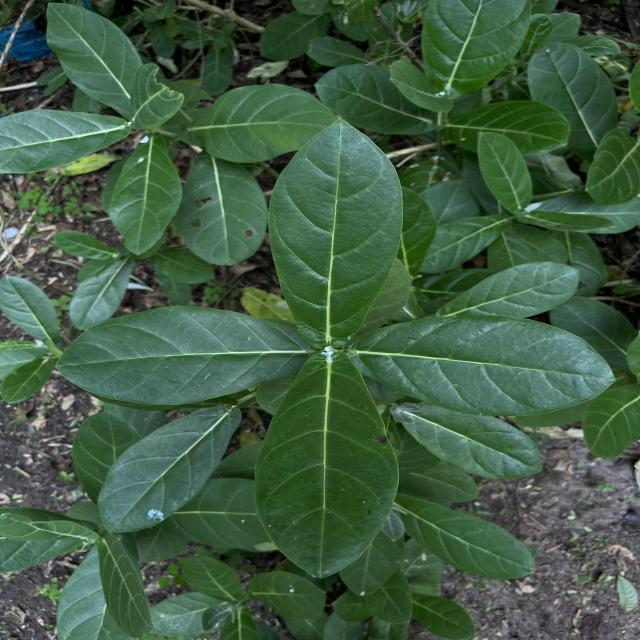Calotropis gigantea: (253, 351, 402, 580), (266, 116, 406, 340), (341, 314, 618, 418), (52, 302, 309, 408), (95, 401, 246, 536), (392, 494, 538, 580), (188, 82, 336, 164), (394, 402, 544, 481), (44, 0, 144, 116), (526, 40, 618, 160), (181, 153, 268, 268), (106, 134, 184, 257), (430, 260, 582, 319), (0, 108, 132, 175), (476, 129, 534, 214)
